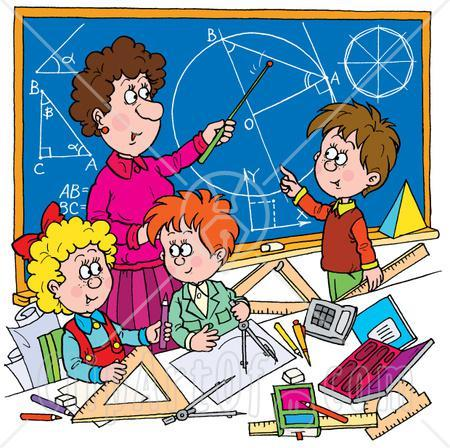person: (64, 40, 226, 324), (15, 216, 168, 381), (279, 100, 405, 300), (143, 193, 252, 353)
